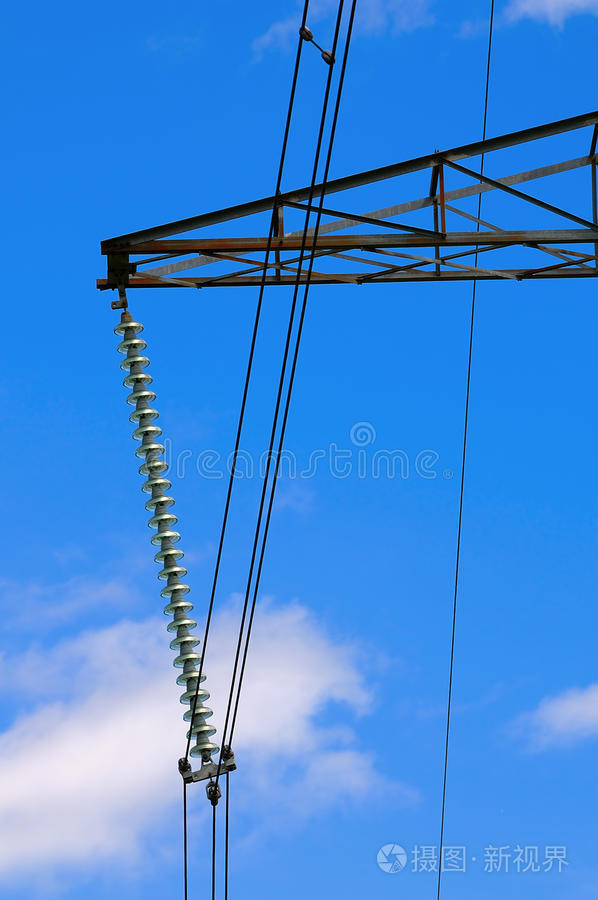insulator: (112, 319, 220, 757)
